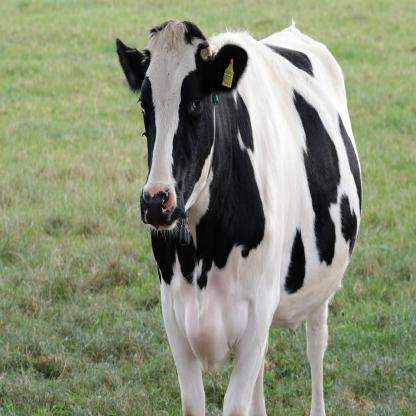cow: (116, 17, 362, 416)
